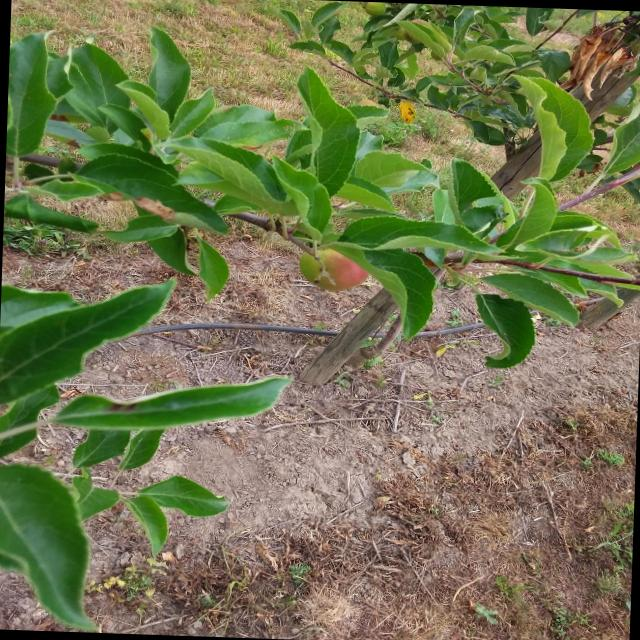-FireBlight-: (566, 8, 640, 90)
